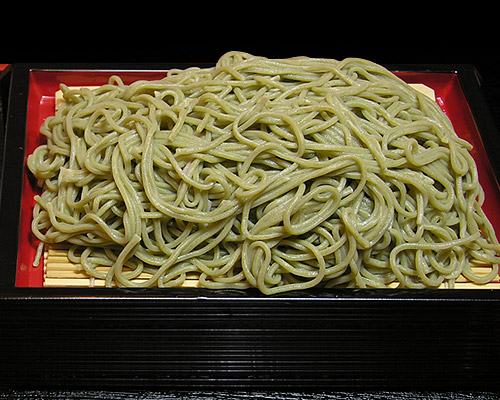Soba: (33, 37, 499, 290)
